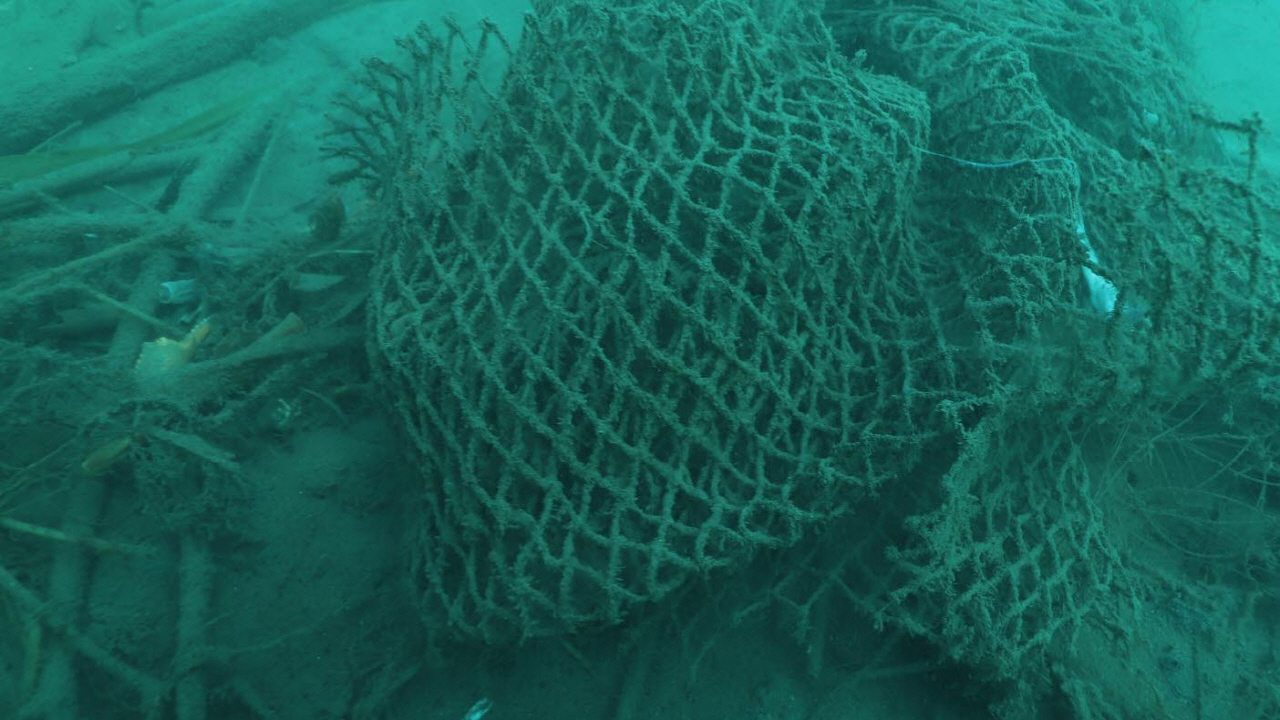fish net: (339, 1, 1280, 661)
